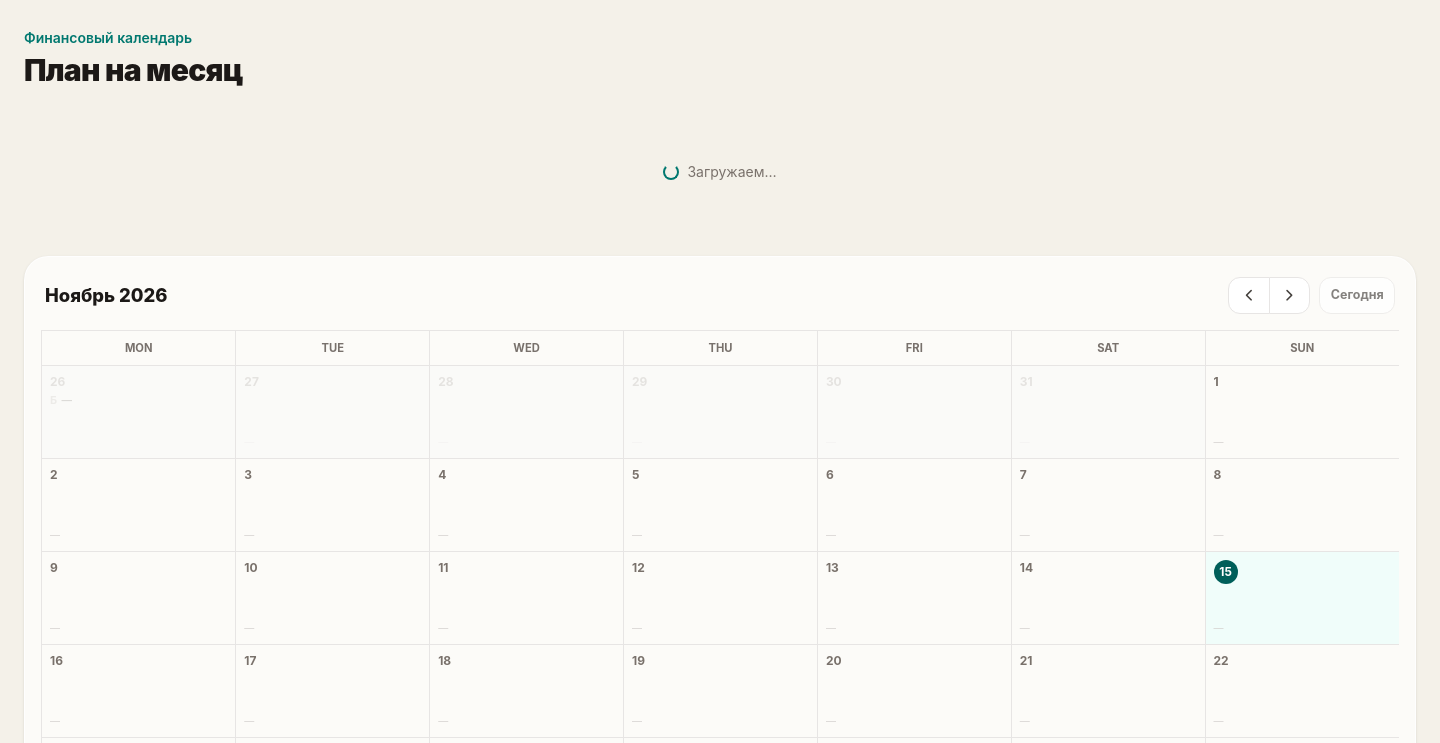
Test case: calendar remains available during financial loading › renders unknown daily amounts as a dash and keeps known zero totals
Click the button "26 Б —" at (139, 412), box [46,370,231,454]
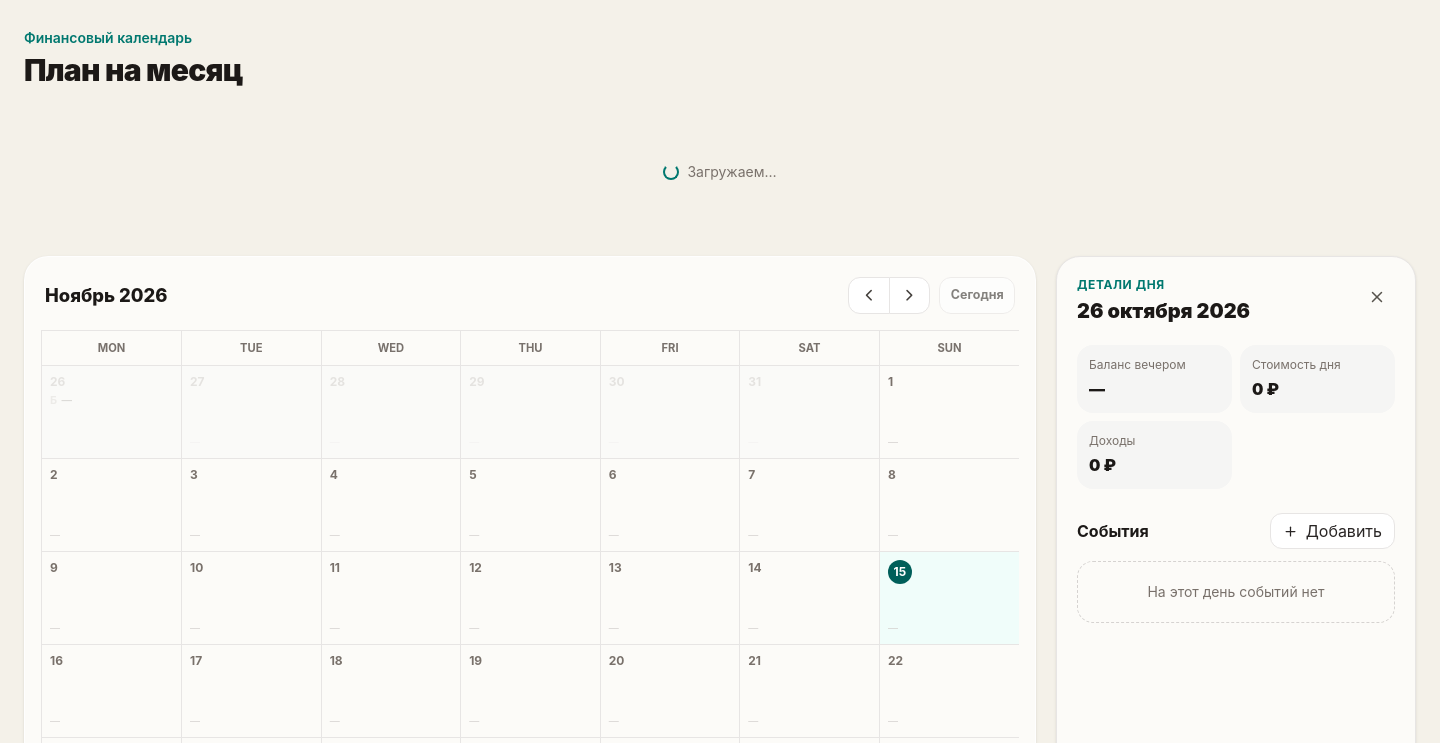
Now the button "Добавить" is enabled, box [1270,513,1395,549]
